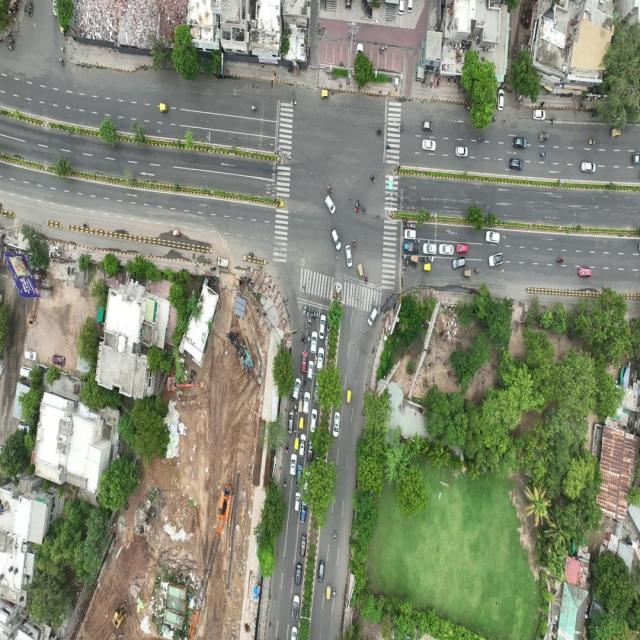3W: (22, 0, 37, 21), (608, 124, 622, 144), (157, 97, 170, 116), (355, 259, 366, 281), (537, 128, 550, 146), (344, 386, 354, 409), (420, 259, 433, 276), (293, 430, 302, 454), (296, 393, 305, 416), (460, 267, 474, 281), (318, 86, 331, 101), (298, 409, 306, 433), (408, 252, 422, 265), (325, 581, 332, 604)
Cars: (512, 131, 530, 153), (329, 224, 342, 253), (436, 239, 456, 257), (296, 430, 308, 460), (324, 191, 337, 218), (300, 389, 312, 418), (486, 251, 505, 269), (308, 404, 319, 435), (421, 240, 441, 257), (285, 406, 296, 436), (298, 531, 310, 558), (312, 379, 324, 406), (484, 228, 501, 247), (298, 493, 308, 525), (450, 255, 468, 272), (332, 410, 342, 440), (290, 592, 300, 622), (288, 450, 298, 480), (343, 243, 354, 270), (401, 225, 419, 241), (367, 303, 378, 329), (575, 265, 594, 280), (294, 560, 304, 588), (300, 348, 310, 376), (292, 376, 302, 404), (295, 459, 304, 490), (49, 0, 65, 17), (421, 136, 437, 153), (496, 86, 506, 113), (306, 435, 315, 465), (316, 559, 326, 585), (51, 353, 67, 369), (420, 118, 436, 134), (580, 159, 596, 175), (19, 364, 34, 381), (454, 143, 469, 160), (454, 240, 469, 256), (24, 347, 38, 364), (523, 6, 532, 32), (303, 468, 312, 494), (316, 345, 324, 374), (306, 359, 315, 384), (310, 330, 319, 355), (532, 106, 546, 122), (508, 158, 525, 171), (319, 312, 326, 341), (294, 489, 302, 514), (17, 421, 30, 435), (396, 0, 406, 17), (289, 624, 299, 640), (405, 0, 415, 15), (355, 40, 364, 56), (343, 0, 353, 11)
LCV: (400, 238, 416, 254), (629, 149, 640, 169), (588, 106, 600, 122), (172, 226, 182, 242)
M2W: (55, 51, 67, 69), (366, 169, 377, 188), (586, 132, 597, 150), (381, 136, 393, 152), (330, 527, 340, 546), (486, 112, 498, 127), (362, 268, 371, 288), (254, 258, 265, 274), (4, 41, 18, 53), (475, 134, 487, 148), (283, 439, 292, 457), (284, 148, 294, 164), (434, 70, 442, 90), (409, 257, 419, 273), (312, 348, 320, 368), (330, 583, 338, 603), (288, 95, 300, 108), (351, 203, 362, 217), (307, 302, 315, 321), (394, 122, 406, 134), (547, 112, 556, 128), (281, 475, 289, 493), (292, 399, 300, 417), (554, 254, 565, 267), (471, 265, 482, 278), (274, 141, 284, 155), (351, 232, 358, 252), (538, 148, 548, 162), (298, 334, 308, 348), (186, 370, 197, 382), (5, 36, 18, 46), (426, 252, 436, 265), (360, 202, 368, 218), (412, 232, 421, 246), (288, 388, 295, 406), (250, 102, 260, 114), (374, 126, 384, 138), (412, 244, 422, 256), (305, 329, 312, 346), (292, 419, 299, 436), (5, 31, 18, 40), (401, 261, 410, 274), (314, 305, 320, 324), (326, 182, 334, 196), (445, 74, 452, 90), (323, 333, 330, 349), (298, 382, 305, 398), (401, 222, 412, 232), (185, 379, 197, 388), (399, 248, 408, 260), (303, 317, 309, 335), (248, 246, 255, 261), (306, 317, 313, 332), (417, 254, 427, 264), (408, 221, 418, 231), (188, 367, 199, 376), (300, 281, 307, 295), (305, 304, 311, 320), (302, 372, 308, 388), (400, 214, 410, 223), (312, 307, 317, 325), (82, 220, 90, 231), (452, 76, 458, 90), (302, 303, 308, 317), (403, 258, 411, 268)
Truck: (213, 252, 232, 272)
